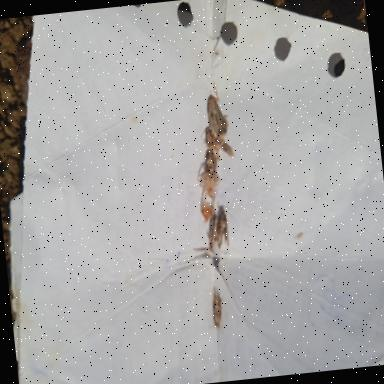pbw: (206, 94, 228, 141), (200, 125, 221, 164), (213, 208, 230, 250), (204, 212, 220, 249), (210, 289, 224, 329), (202, 148, 219, 176), (218, 134, 234, 158)
